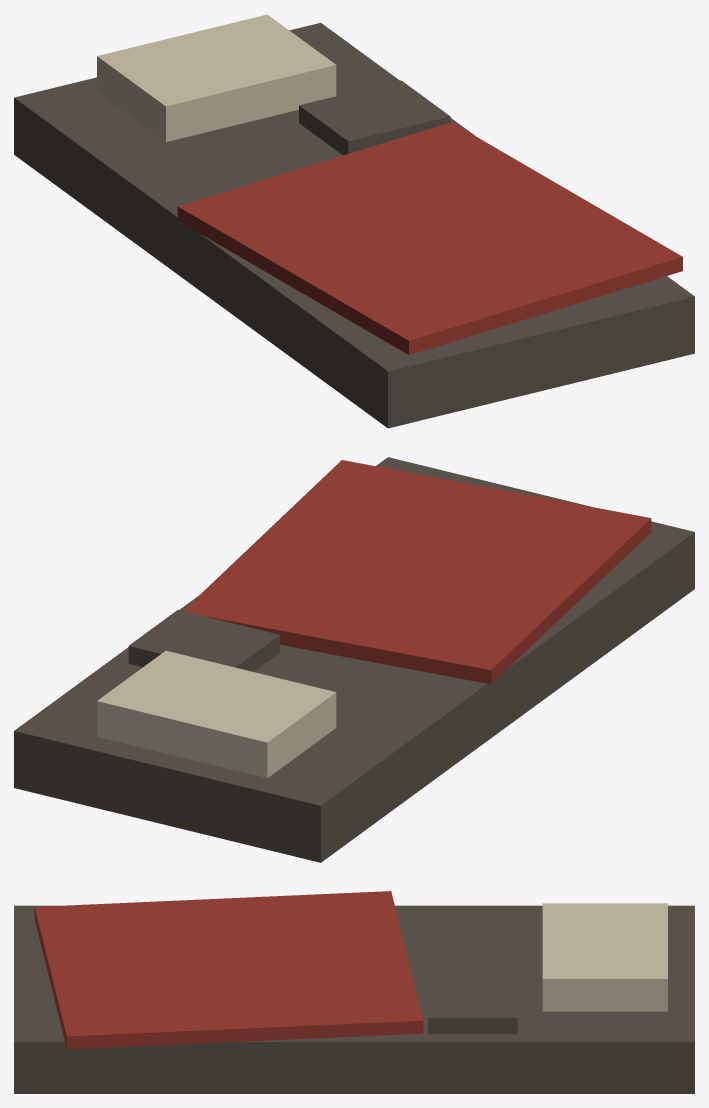
Rendered from mattress-floor.glb.
3 views of the same model, one above another, from view 1: azimuth 30°, elevation 25°; view 2: azimuth 150°, elevation 25°; view 3: azimuth 270°, elevation 25° (orthographic). The views are drawn at different scales.
Visible parts, largest first — view 1: fabric, accent-warm, paper; view 2: fabric, accent-warm, paper; view 3: fabric, accent-warm, paper.
Part boxes in pixels (x1=…): fabric: x1=14, y1=22, x2=694, y2=428; accent-warm: x1=177, y1=122, x2=682, y2=354; paper: x1=97, y1=14, x2=336, y2=141; fabric: x1=14, y1=457, x2=694, y2=862; accent-warm: x1=183, y1=460, x2=651, y2=684; paper: x1=97, y1=650, x2=336, y2=778; fabric: x1=14, y1=905, x2=694, y2=1093; accent-warm: x1=34, y1=891, x2=423, y2=1049; paper: x1=542, y1=903, x2=667, y2=1011.
Size of the model in its own units: 0.9598 by 0.26 by 1.9.
